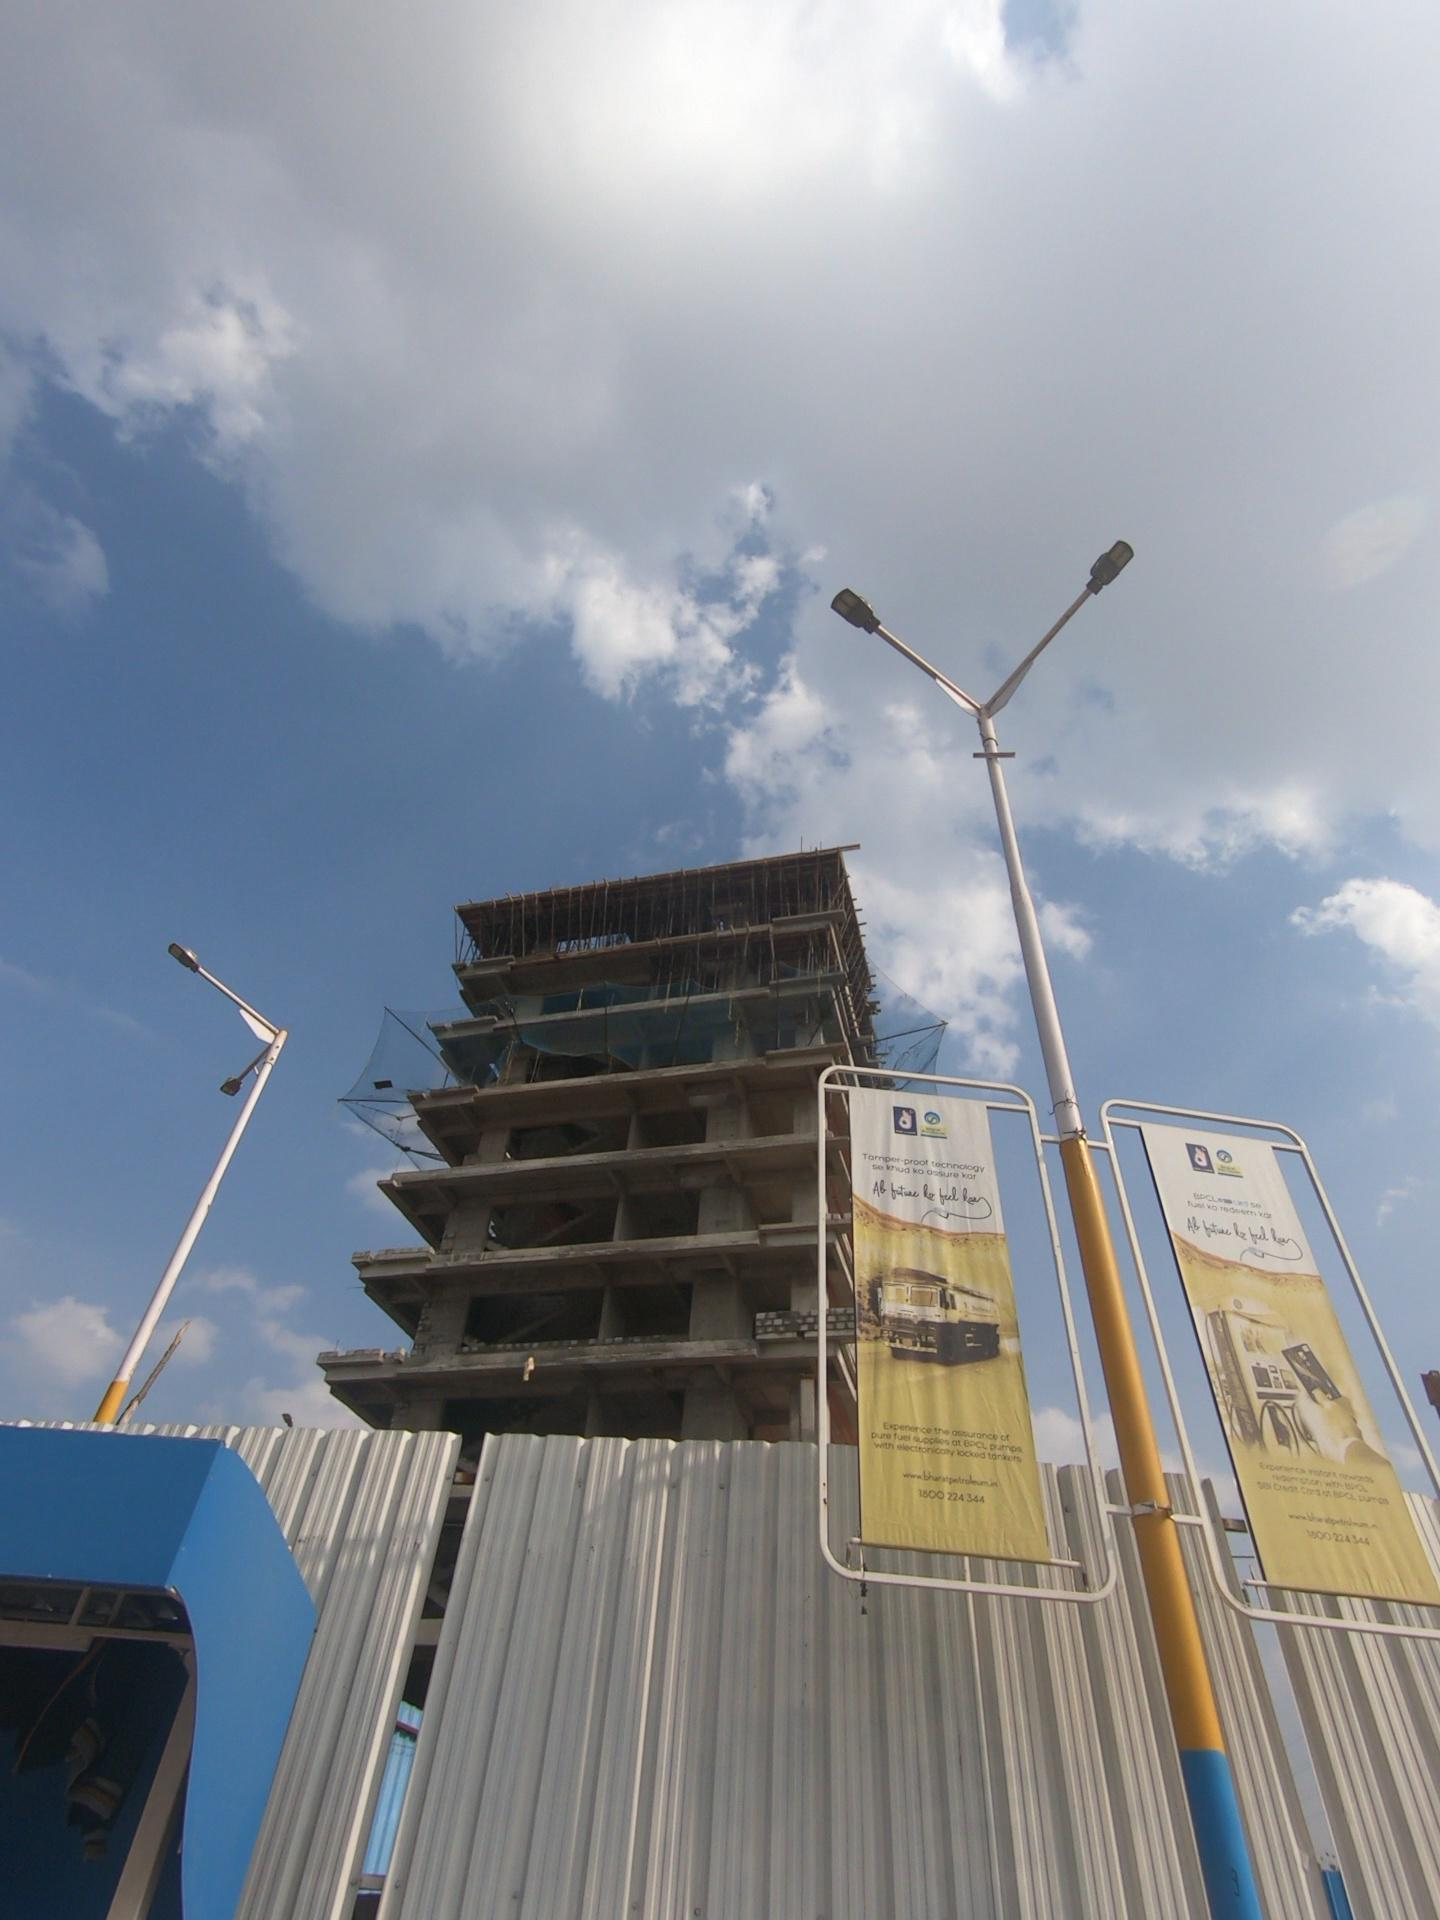off: (790, 531, 1363, 771), (150, 866, 331, 1188)
